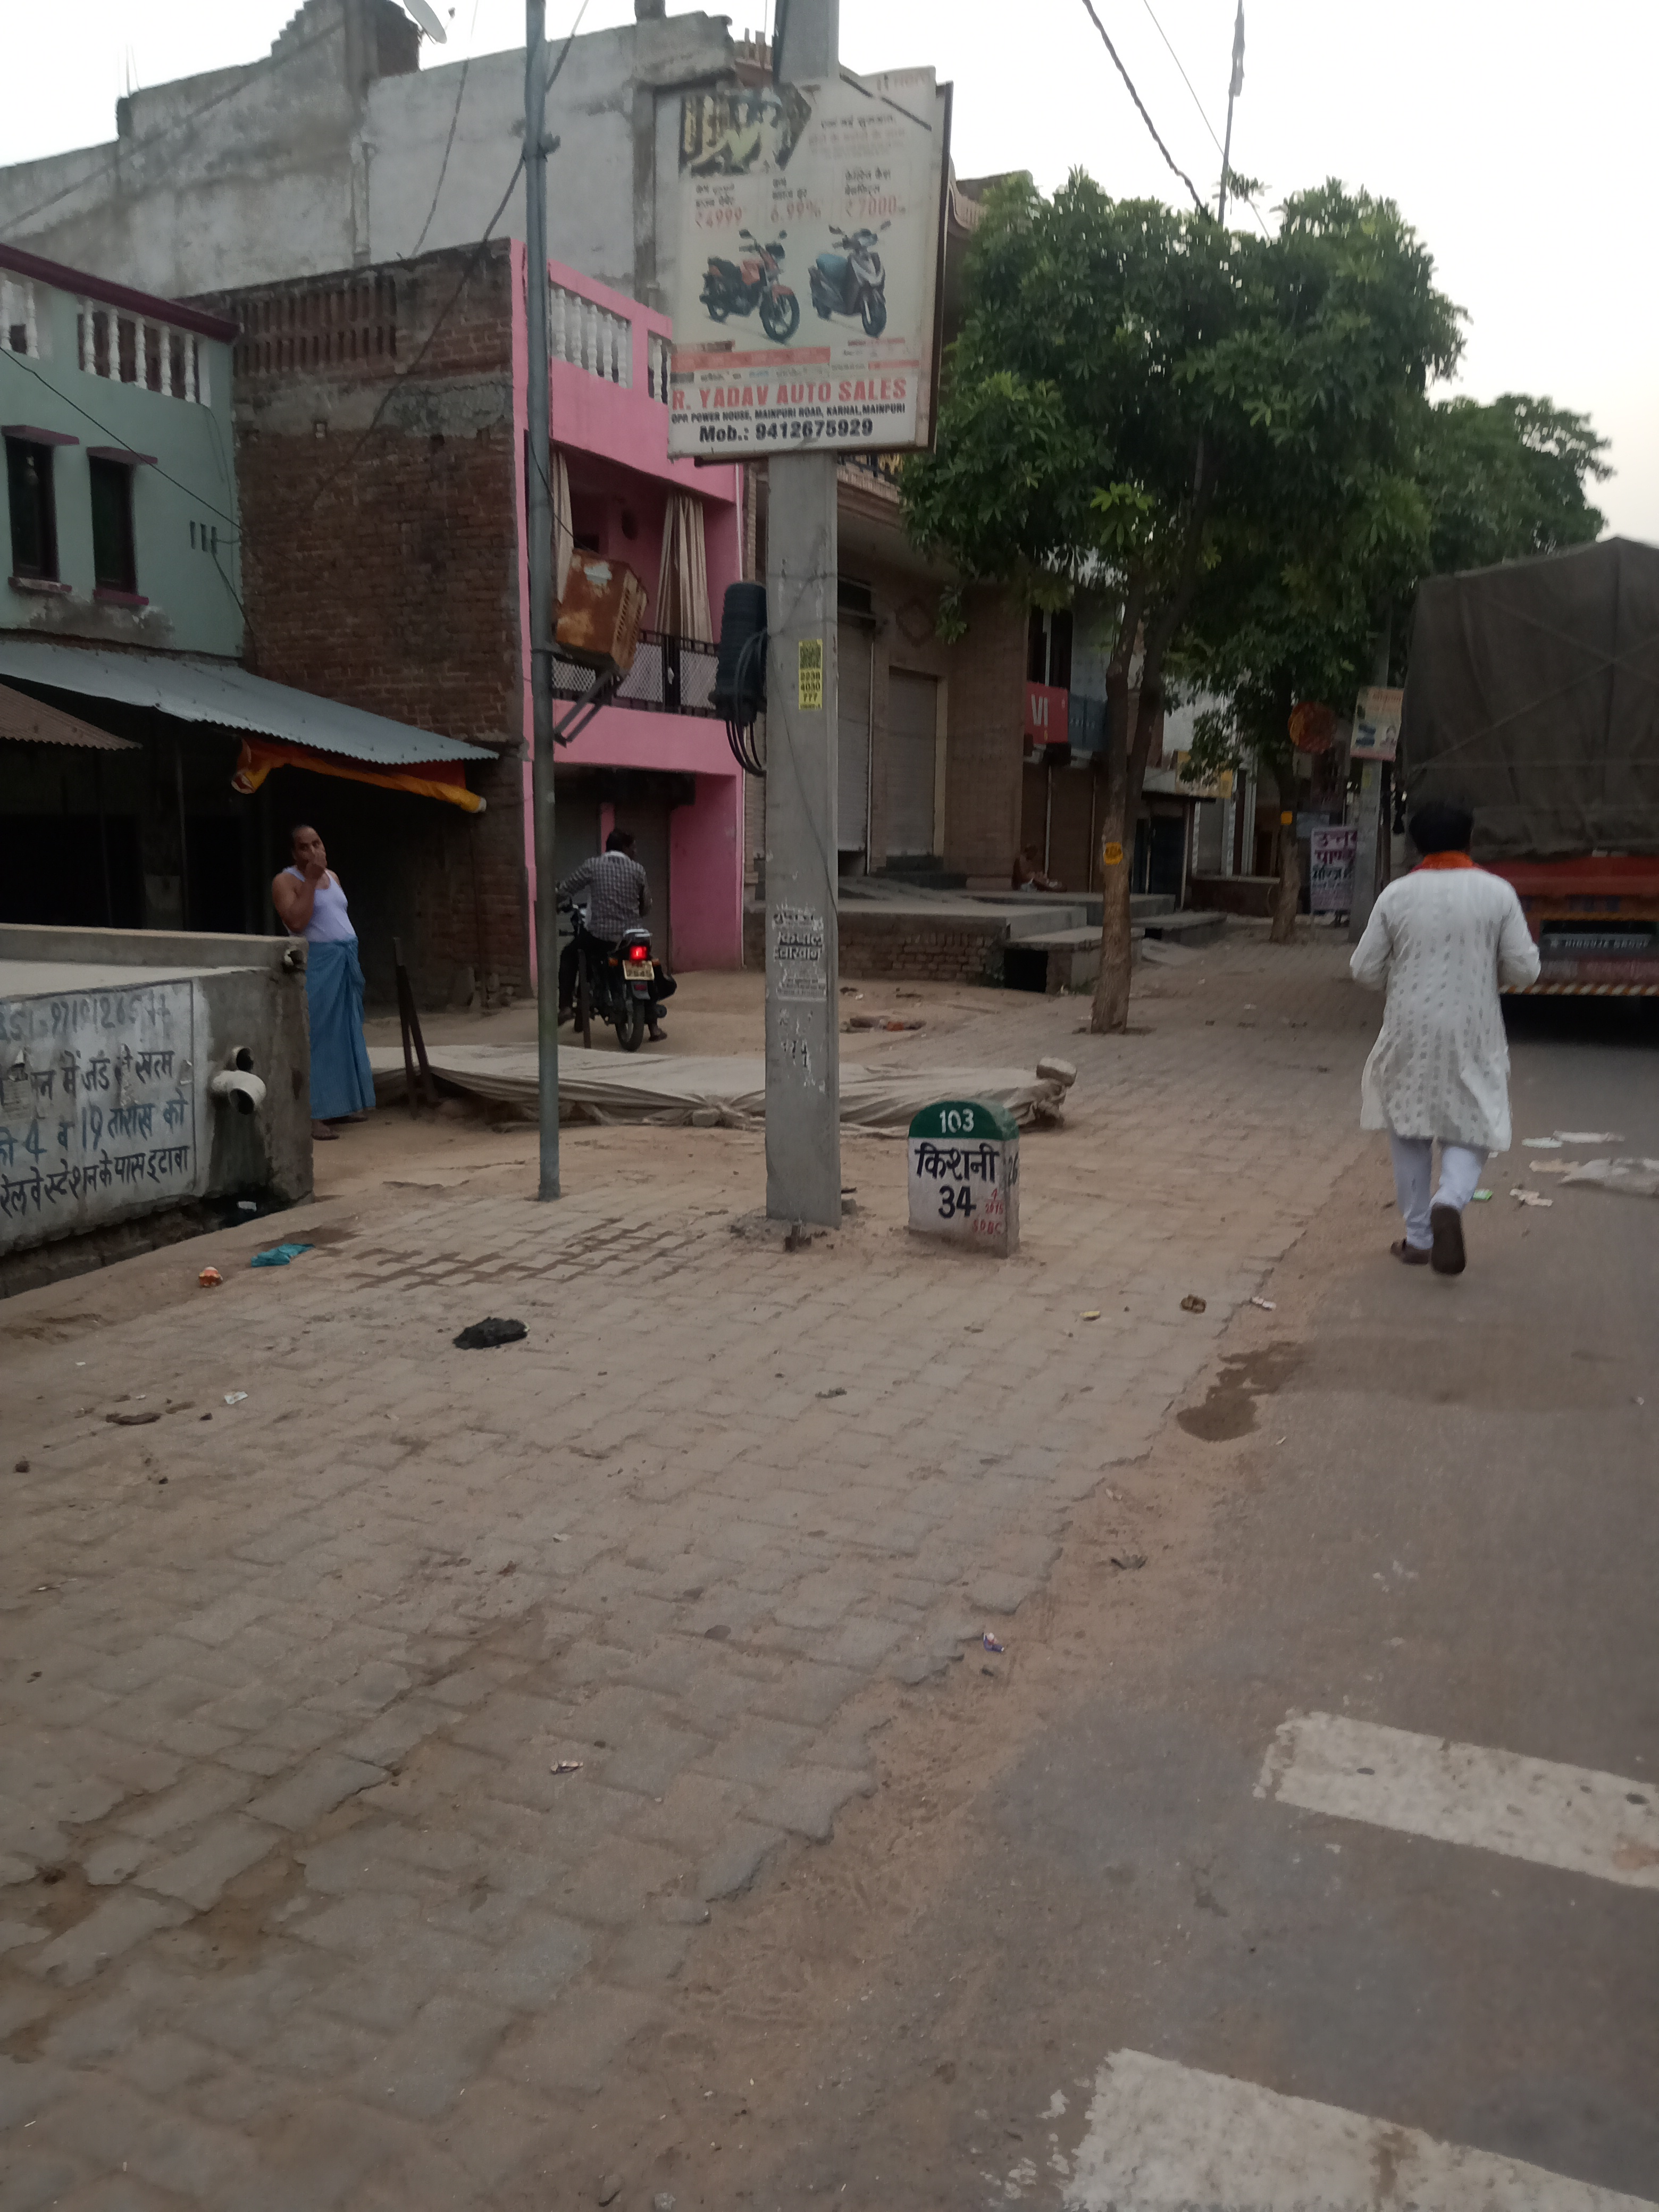text: (664, 63, 955, 453), (0, 974, 228, 1270), (908, 1120, 1009, 1216), (1291, 812, 1373, 920)
